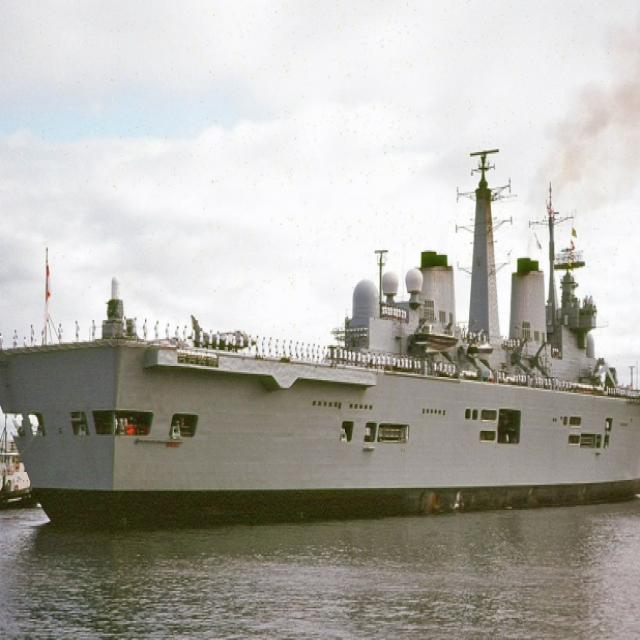Portanaves: (1, 129, 640, 538)
